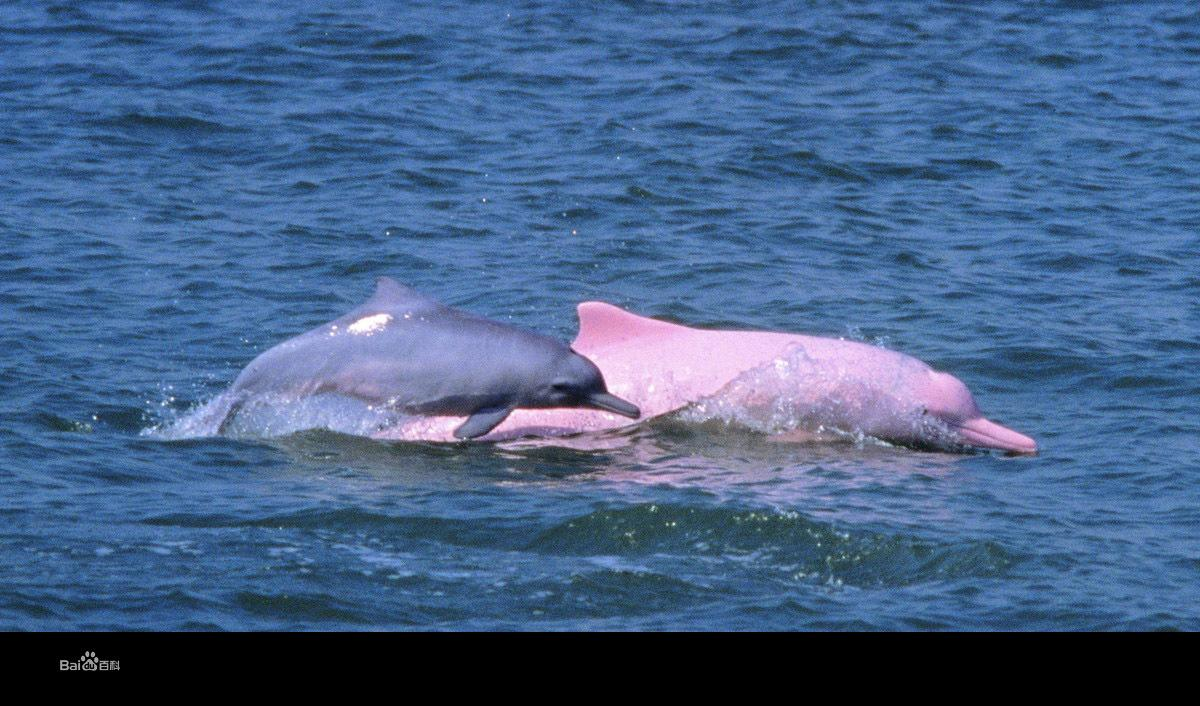fish: (133, 280, 641, 445), (565, 301, 1046, 459)
